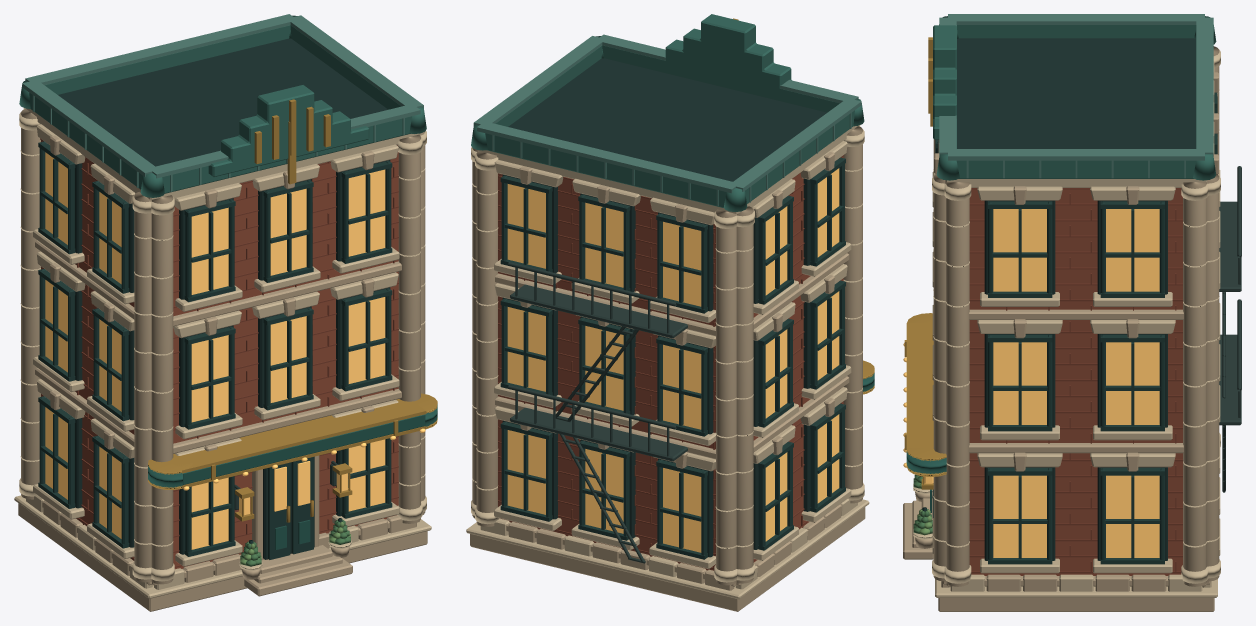
The picture shows the model from 3 angles, left to right: view 1: azimuth 30°, elevation 25°; view 2: azimuth 150°, elevation 25°; view 3: azimuth 270°, elevation 25°; orthographic projection. The views are drawn at different scales.
Parts seen in each view (by area): view 1: expansion_hotel_3_geometry; view 2: expansion_hotel_3_geometry; view 3: expansion_hotel_3_geometry.
Boxes of the visible parts, left/top/right/bottom form: expansion_hotel_3_geometry: left=14, top=14, right=437, bottom=611; expansion_hotel_3_geometry: left=466, top=14, right=874, bottom=611; expansion_hotel_3_geometry: left=903, top=14, right=1241, bottom=611.
Bounding box in the file's own units: 0.99 × 1.57 × 0.9552.
